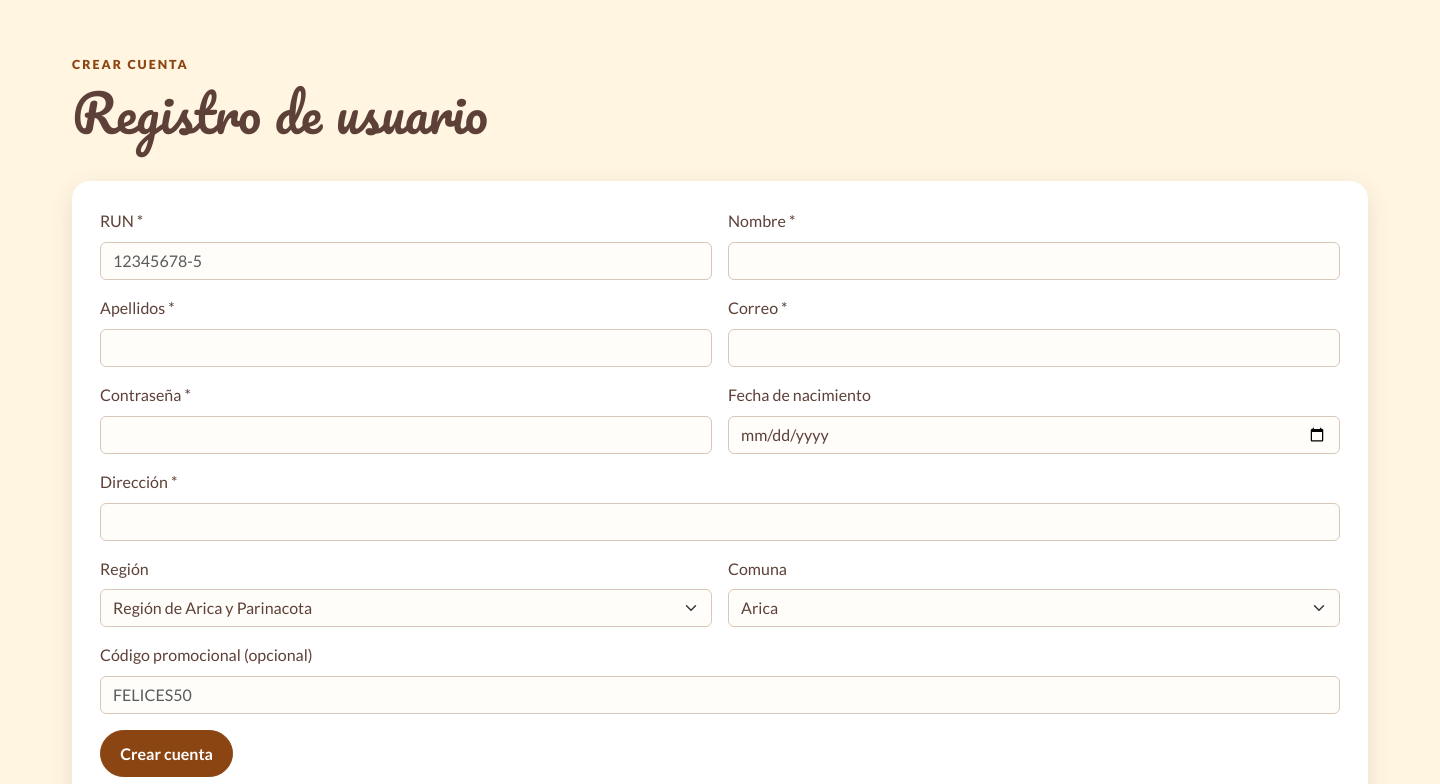
Scenario: Formulario de Registro › muestra errores y no guarda cuando los datos son inválidos
The width and height of the screenshot is (1440, 784).
In the field labelled "RUN *": (406,261) x1=100 y1=242 x2=712 y2=280, type "12345678-9"
In the field labelled "Nombre *": (1034,261) x1=728 y1=242 x2=1340 y2=280, type "María"
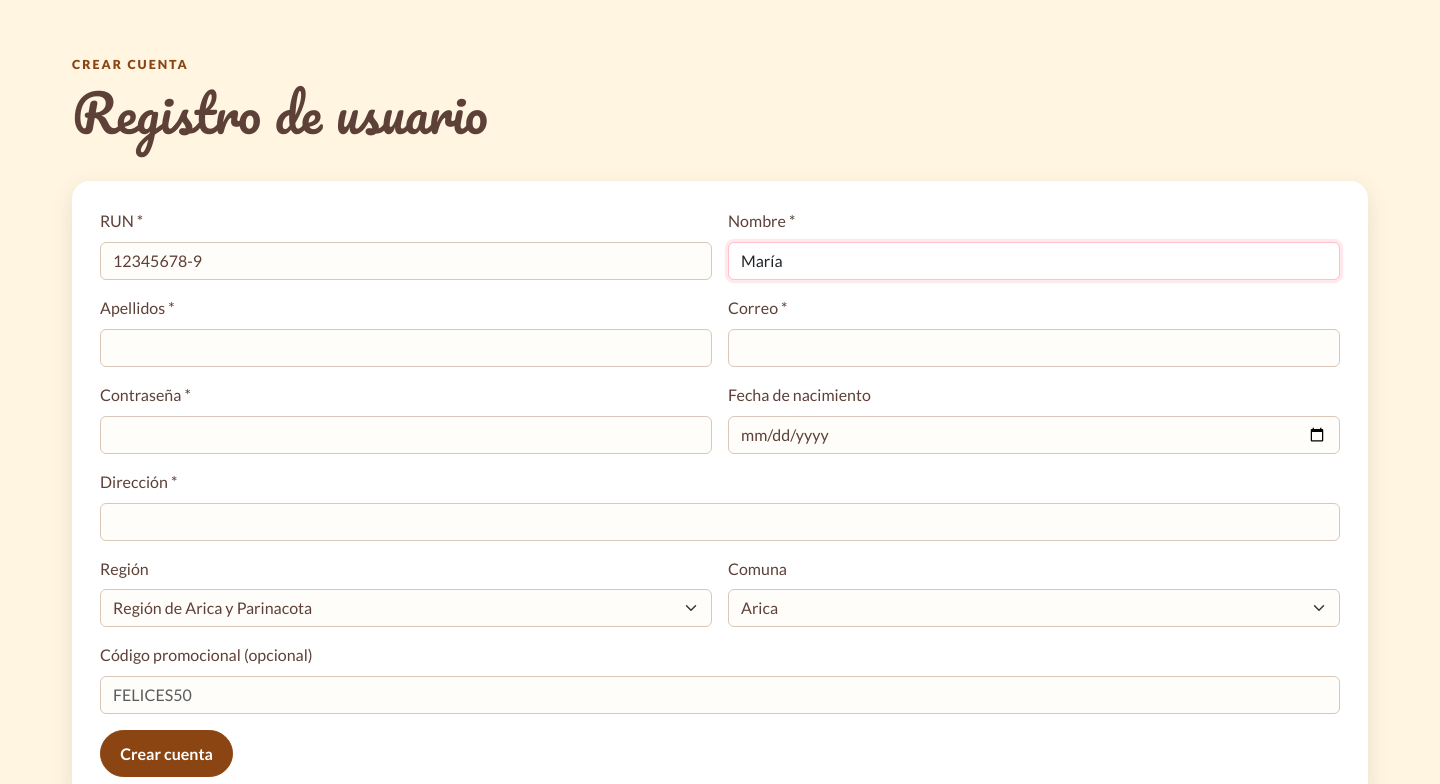
In the field labelled "Apellidos *": (406,348) x1=100 y1=329 x2=712 y2=367, type "González"
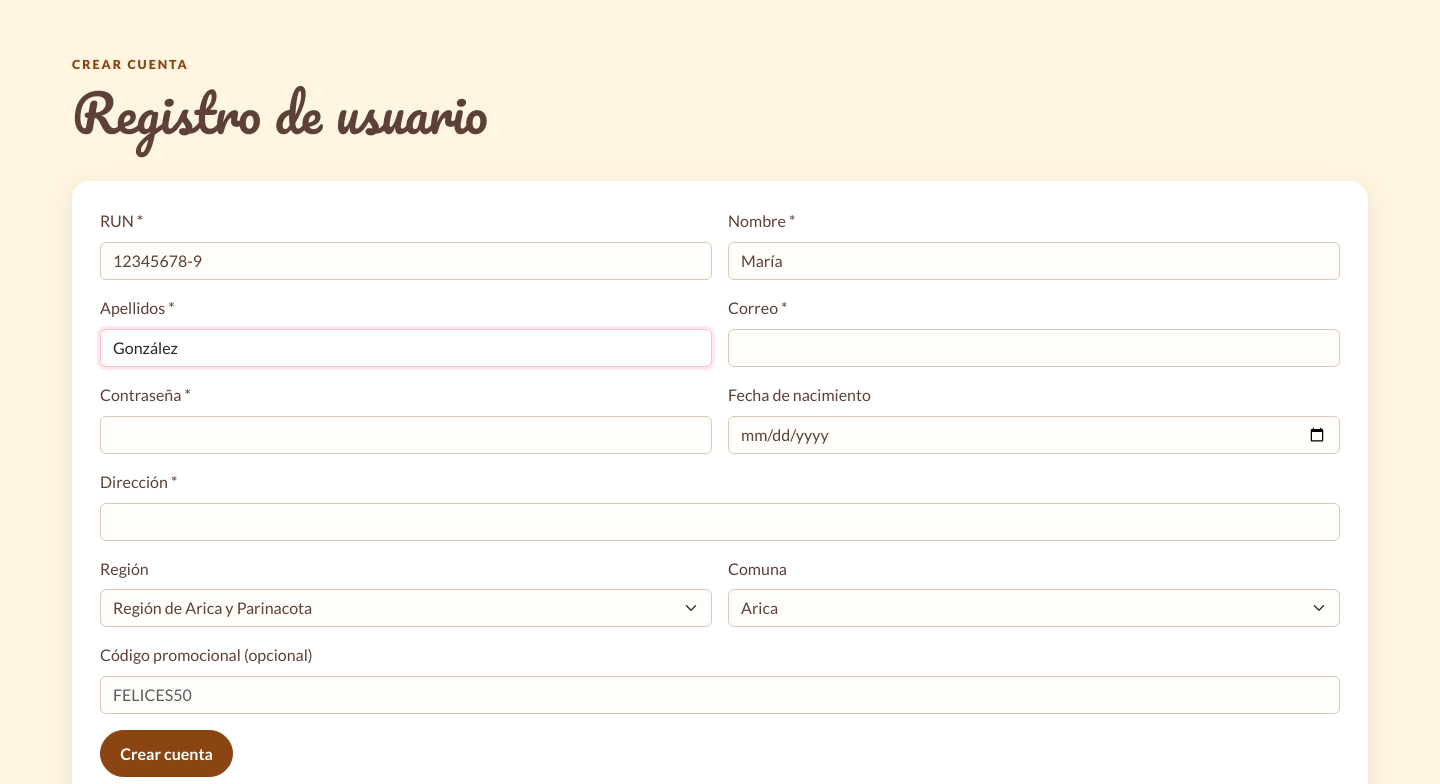
In the field labelled "Correo *": (1034,348) x1=728 y1=329 x2=1340 y2=367, type "alumna@correo.cl"
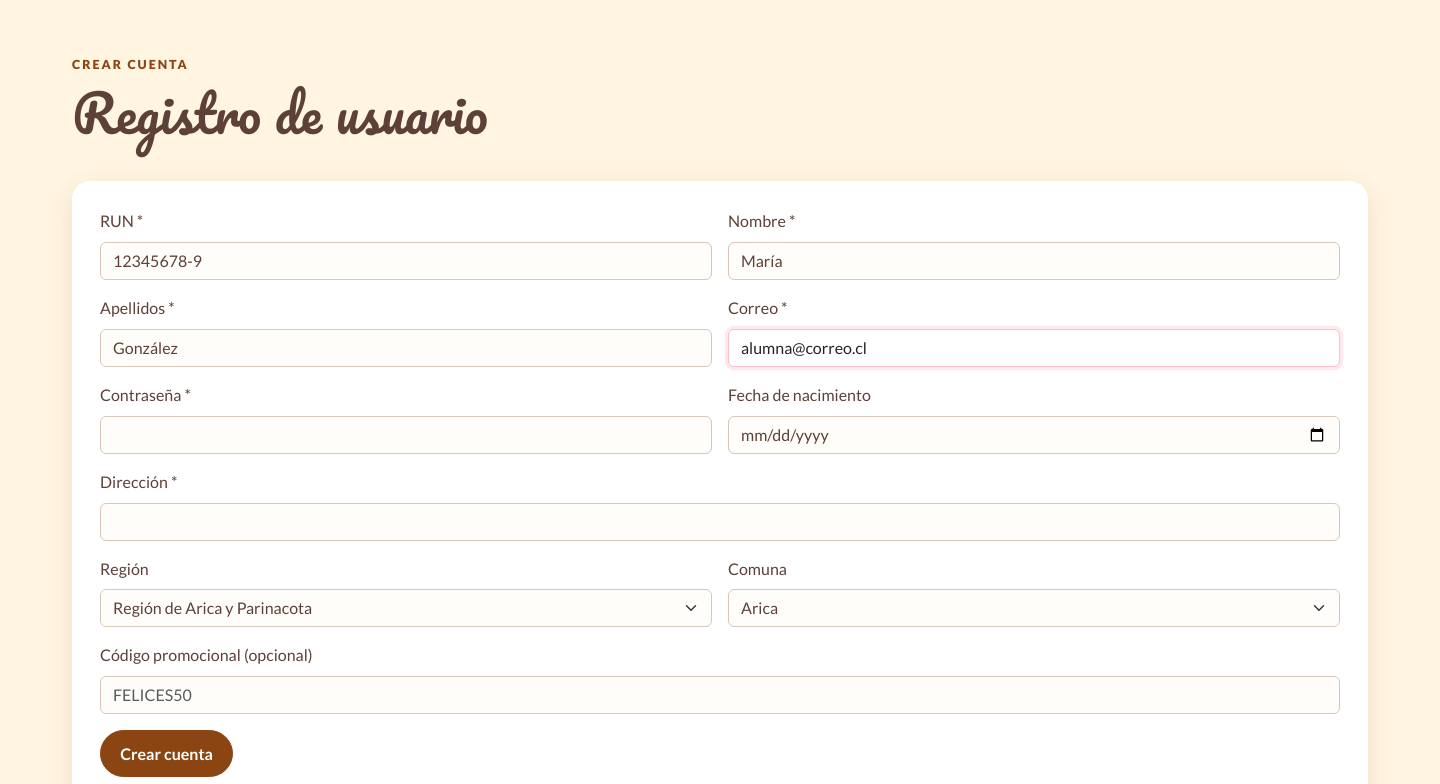
In the password field labelled "Contraseña *": (406,435) x1=100 y1=416 x2=712 y2=454, type "1234"
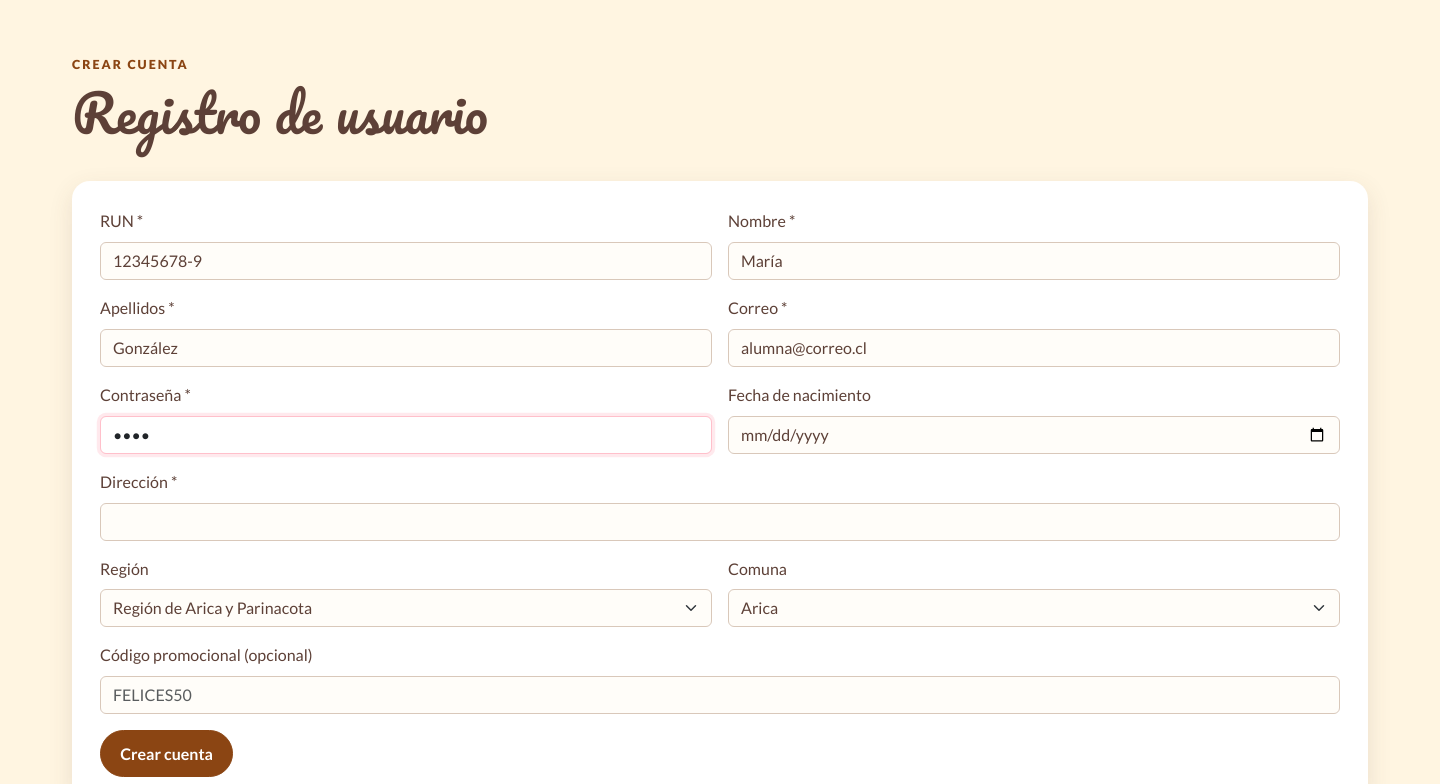
In the field labelled "Dirección *": (720,522) x1=100 y1=503 x2=1340 y2=541, type "Av. Siempre Viva 123"
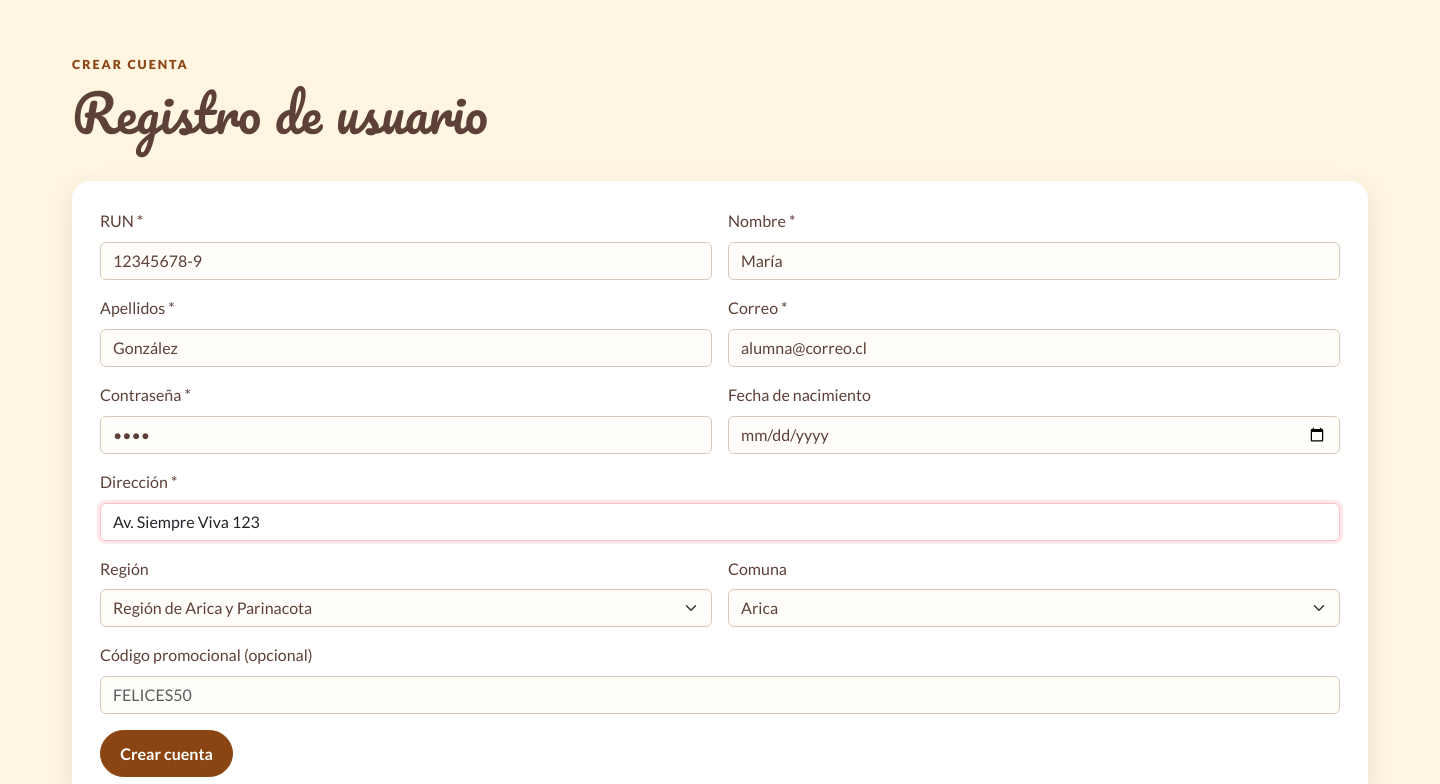
Click the button "Crear cuenta": (167,754) x1=100 y1=730 x2=233 y2=777
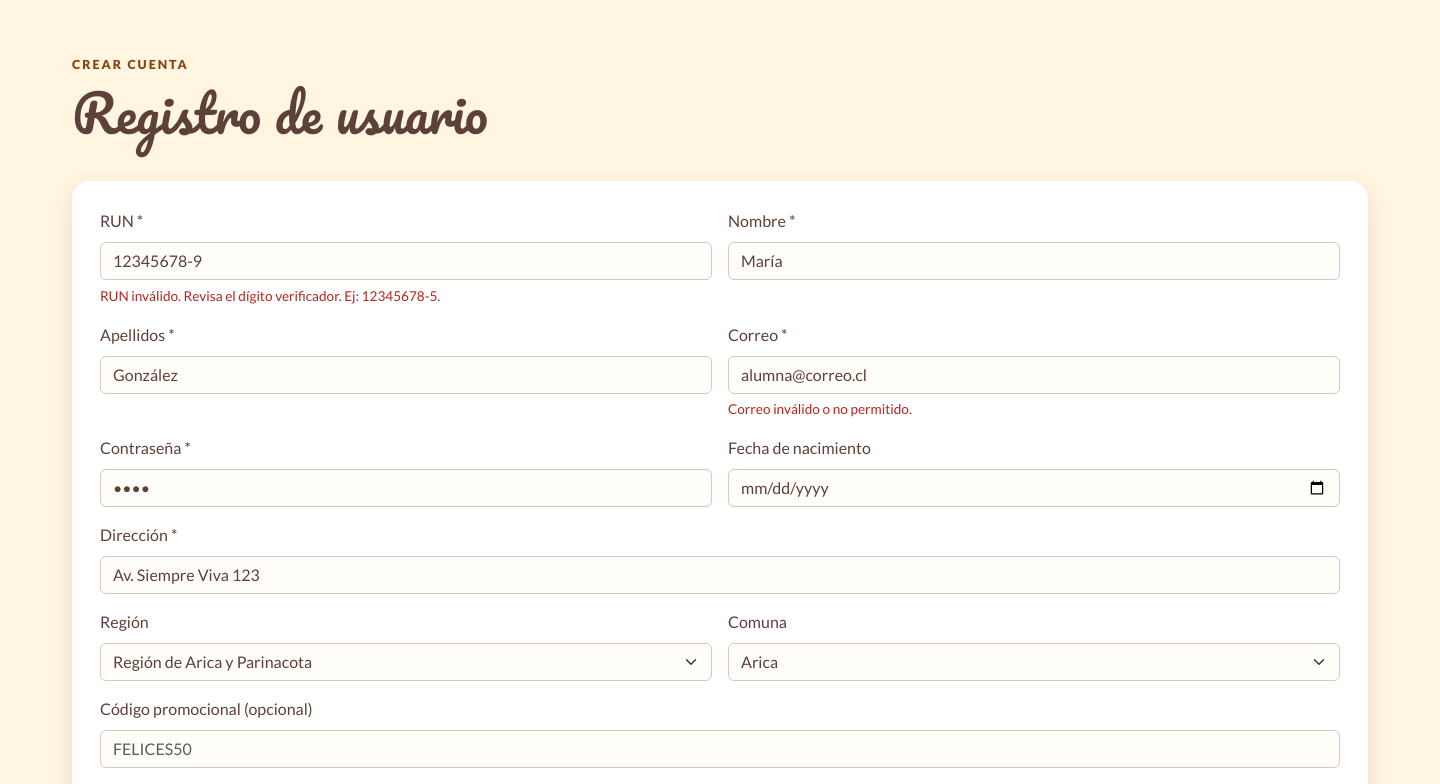
expect the text "RUN inválido. Revisa el dígito verificador. Ej: 12345678-5." is shown: met, box x1=100 y1=288 x2=440 y2=304
expect the text "Correo inválido o no permitido." is shown: met, box x1=728 y1=401 x2=912 y2=417
